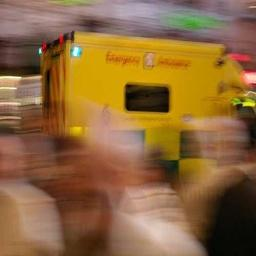Ambulance: (40, 32, 246, 171)
